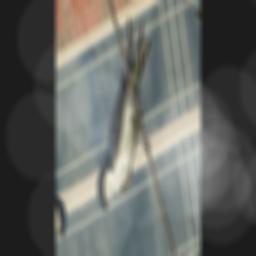Swallow: (78, 3, 168, 217)
